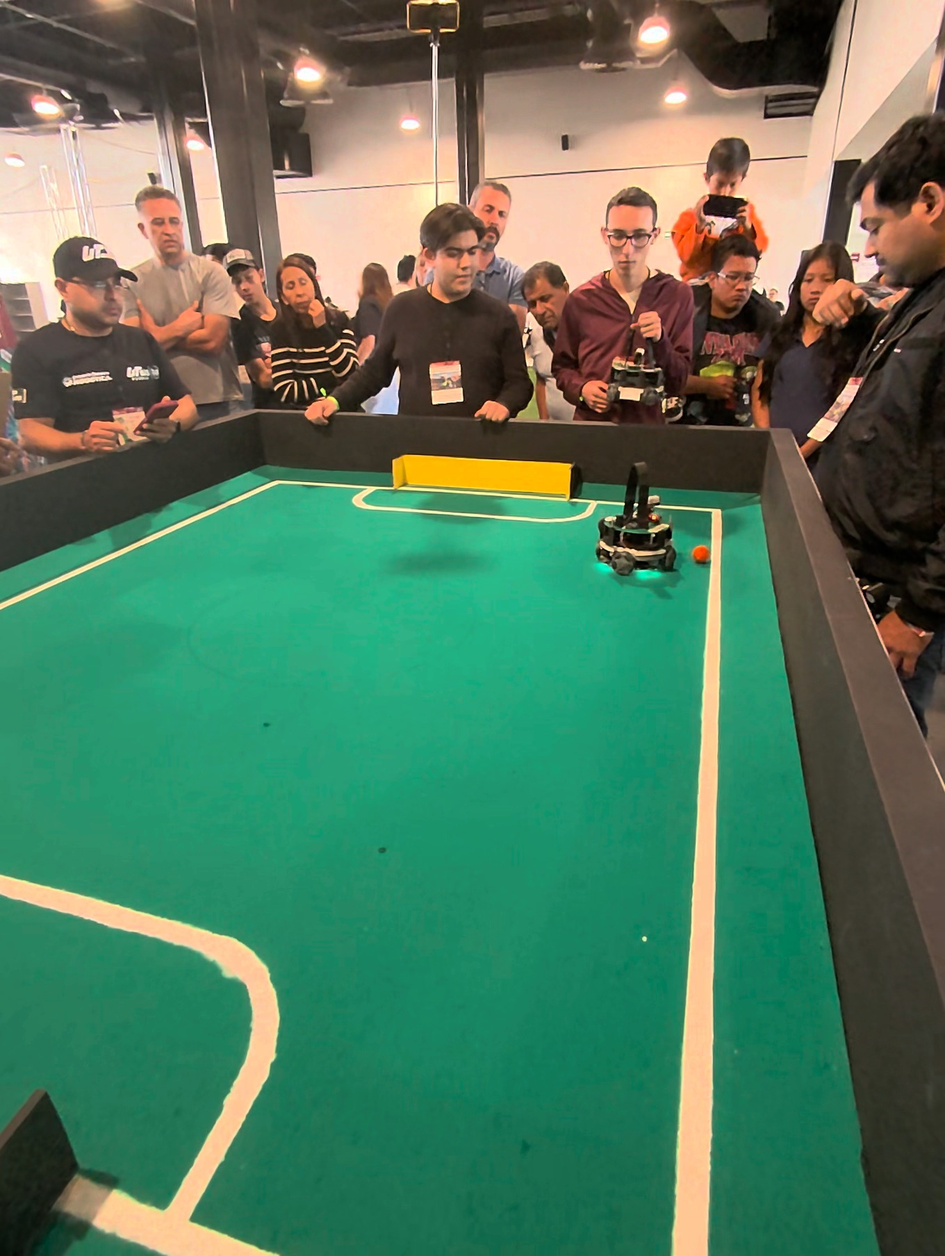Robot: (593, 457, 682, 582)
pelota: (683, 539, 739, 579)
